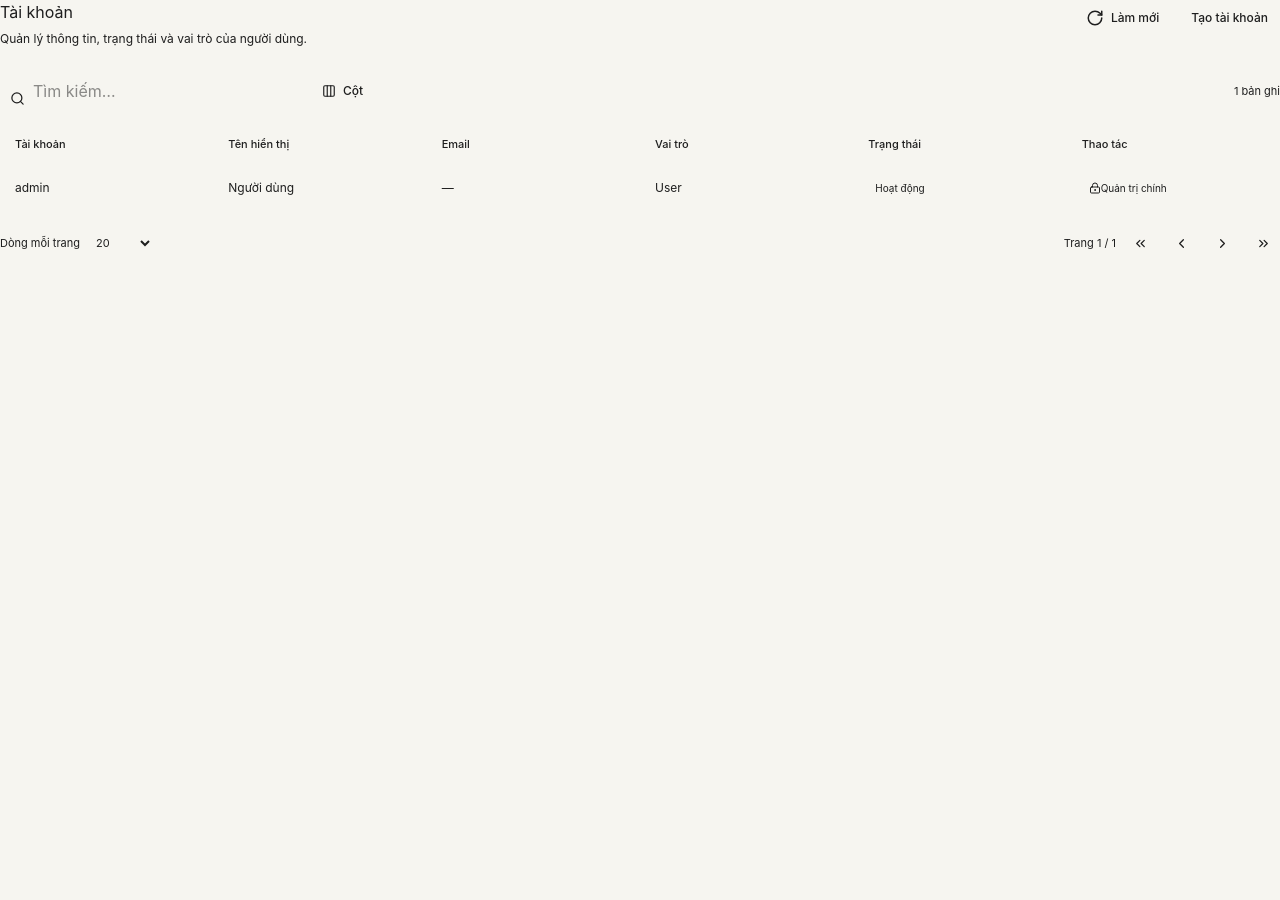
Test: server account page lists API data and creates a multi-role account through the API
This screenshot has width=1280, height=900.
Expected: the link "admin" is shown, [15, 180, 50, 195]
Click the button "Tạo tài khoản": coordinates (1230, 18) [1179, 0, 1279, 36]
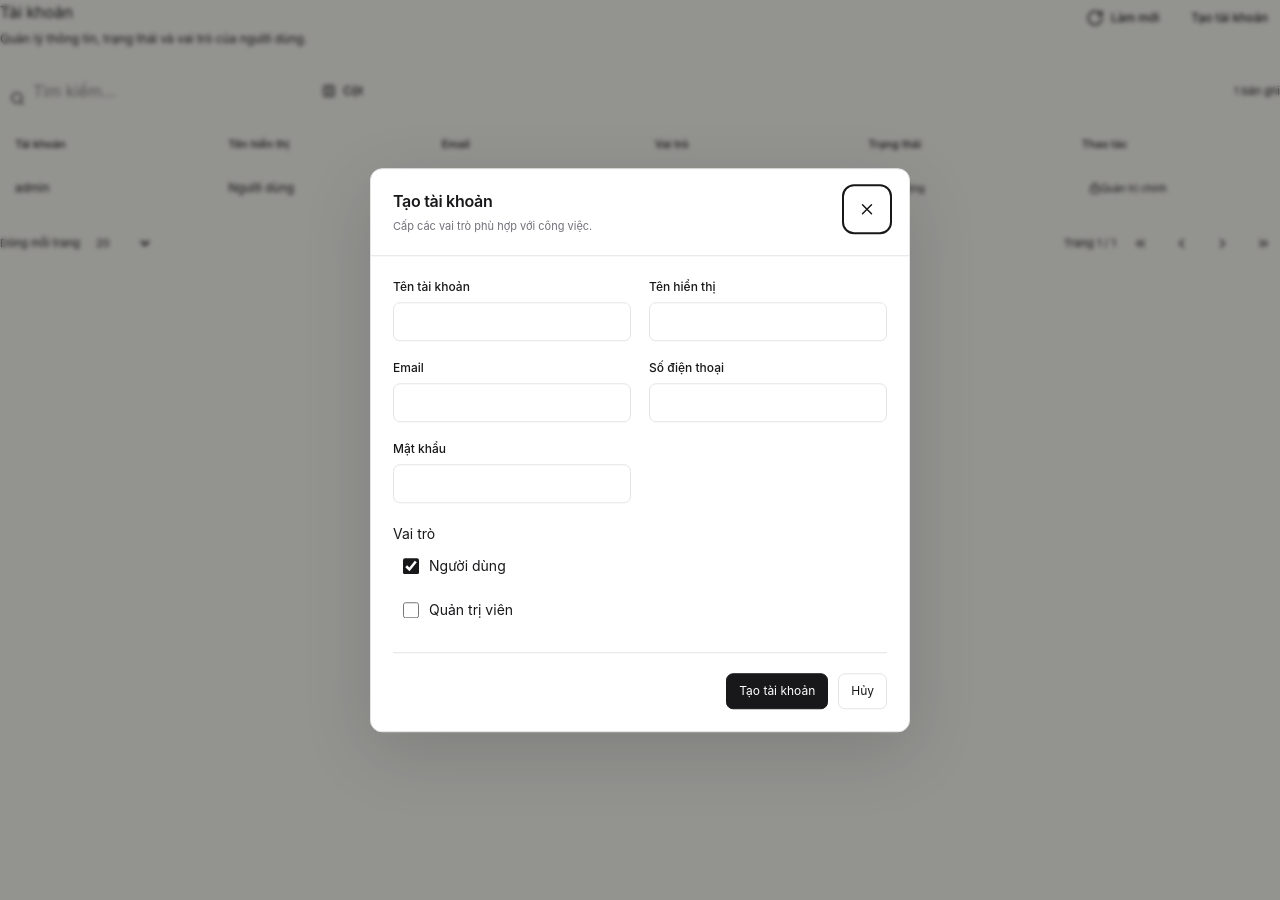
In the field labelled "Tên tài khoản": coordinates (512, 321) [393, 302, 631, 341], type "new-server"
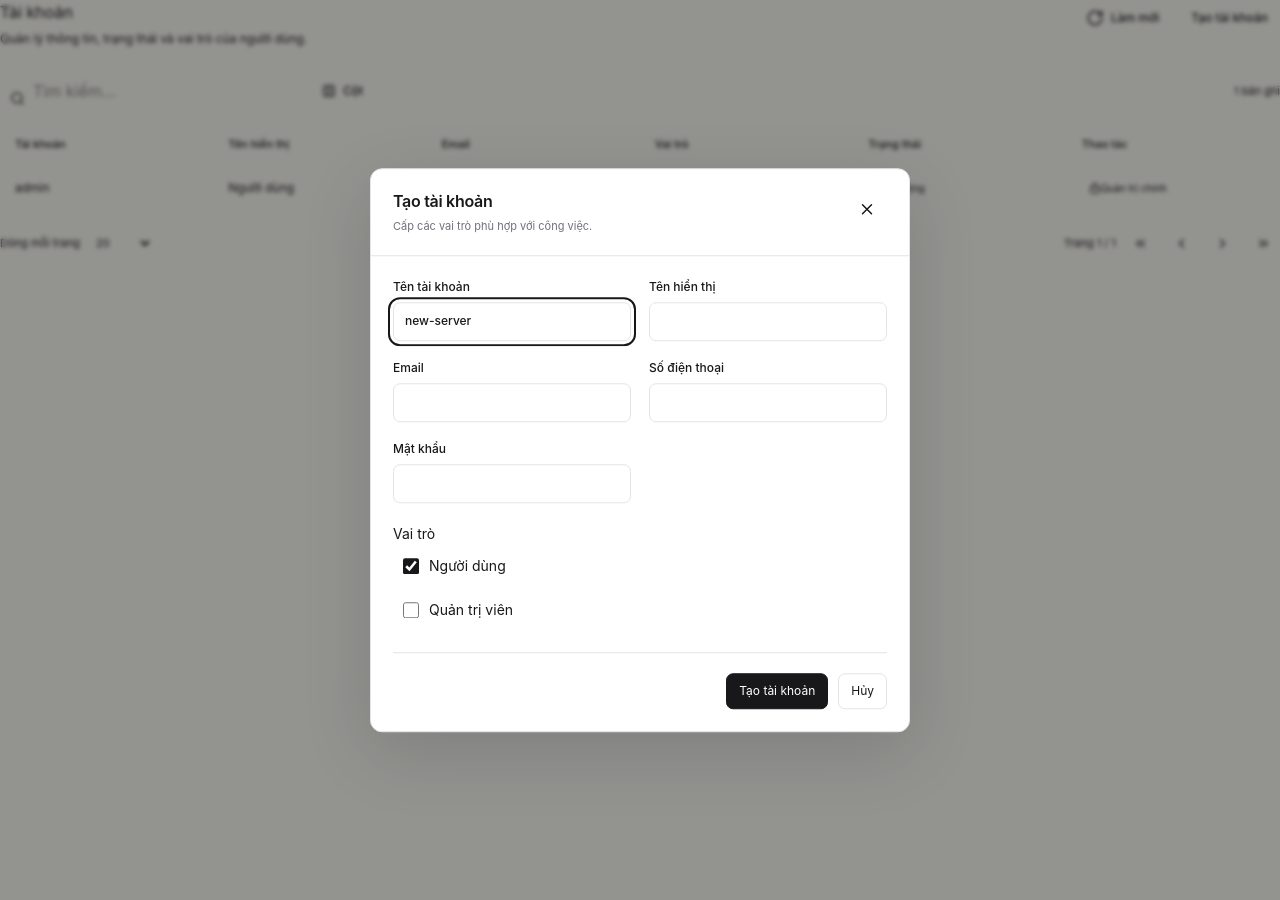
In the field labelled "Tên hiển thị": coordinates (768, 321) [649, 302, 887, 341], type "Tài khoản máy chủ"
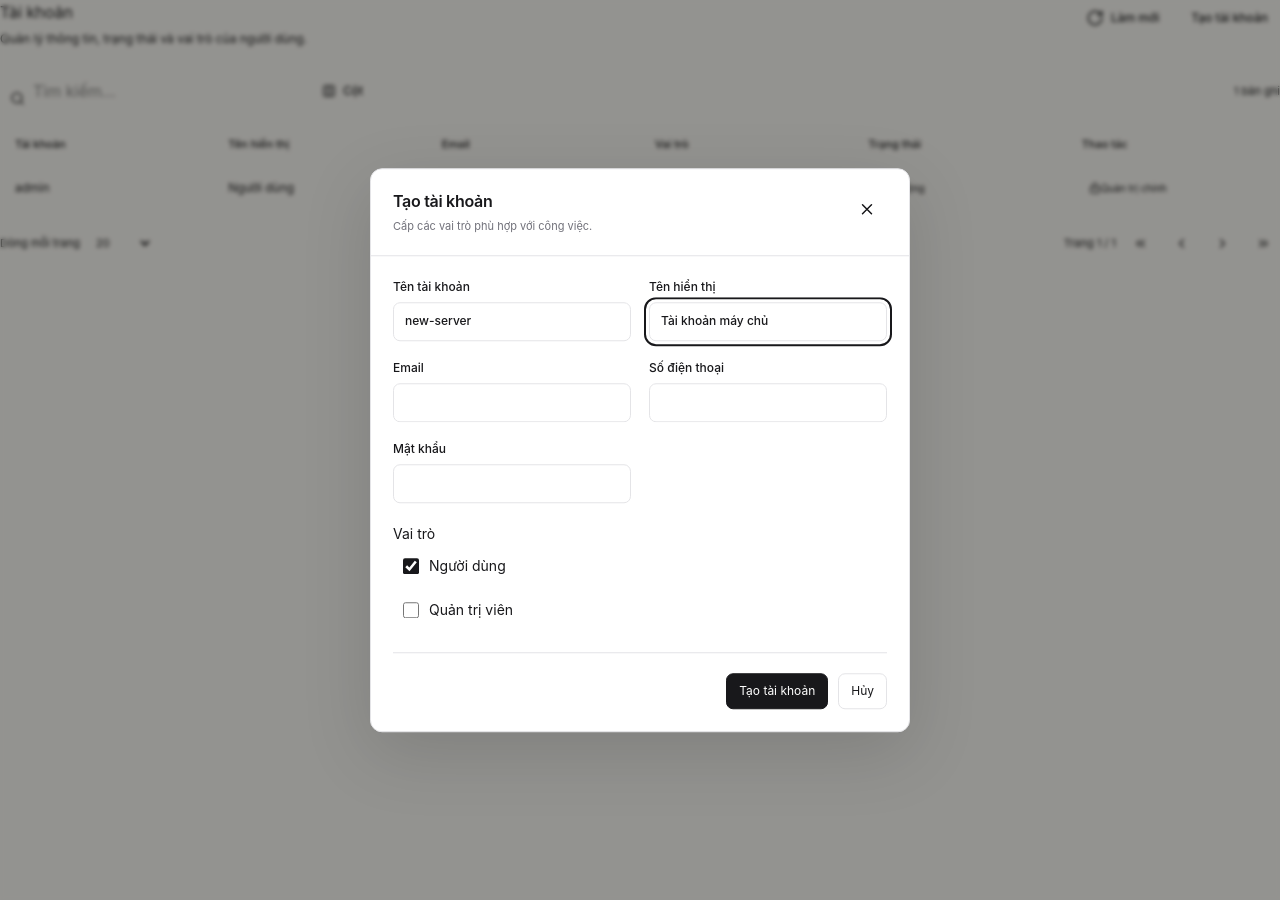
In the password field labelled "Mật khẩu": coordinates (512, 483) [393, 464, 631, 503], type "Only-test-Page!99"
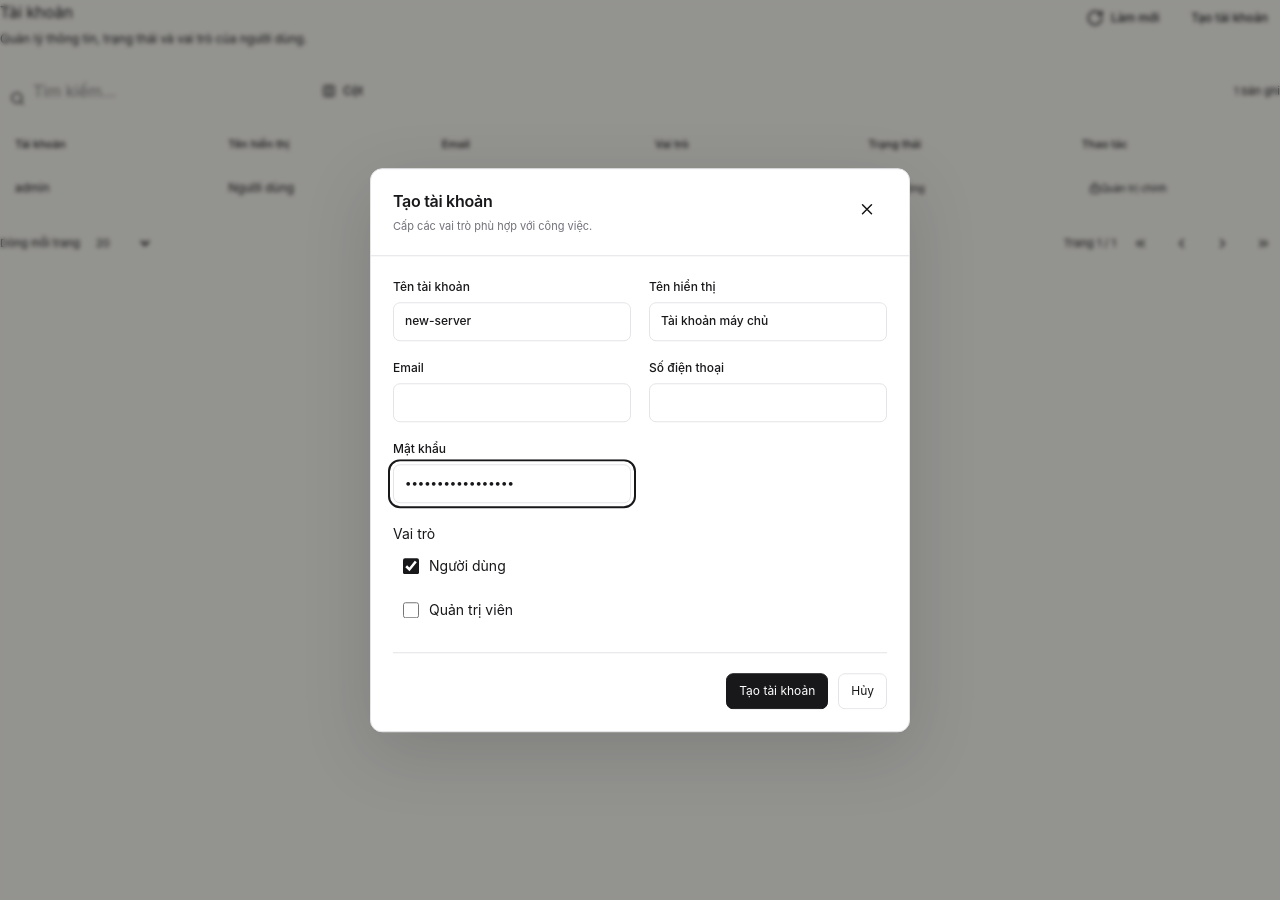
Click the checkbox labelled "Quản trị viên": coordinates (411, 610) [403, 602, 419, 618]
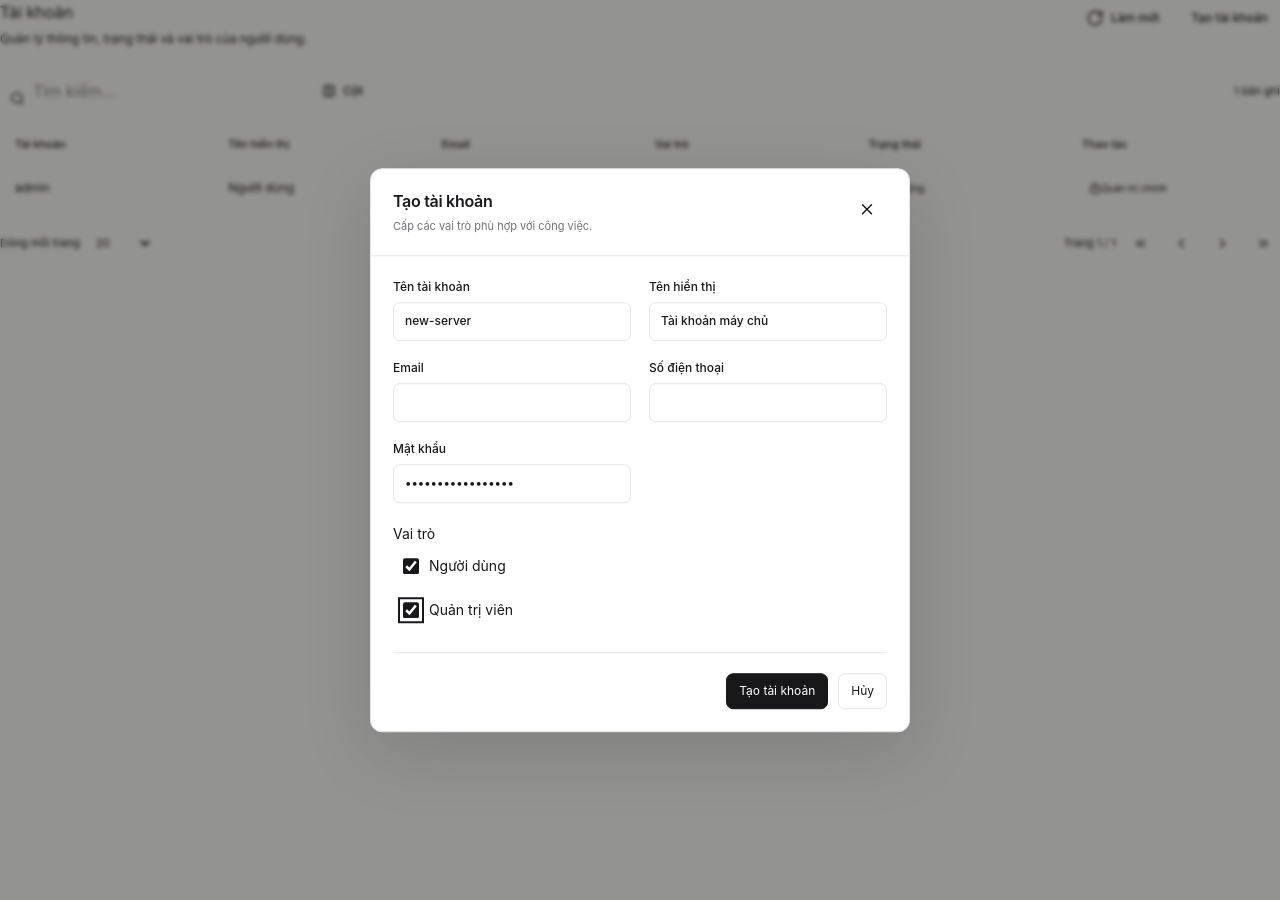
Click the button "Tạo tài khoản": coordinates (777, 691) [726, 673, 828, 709]
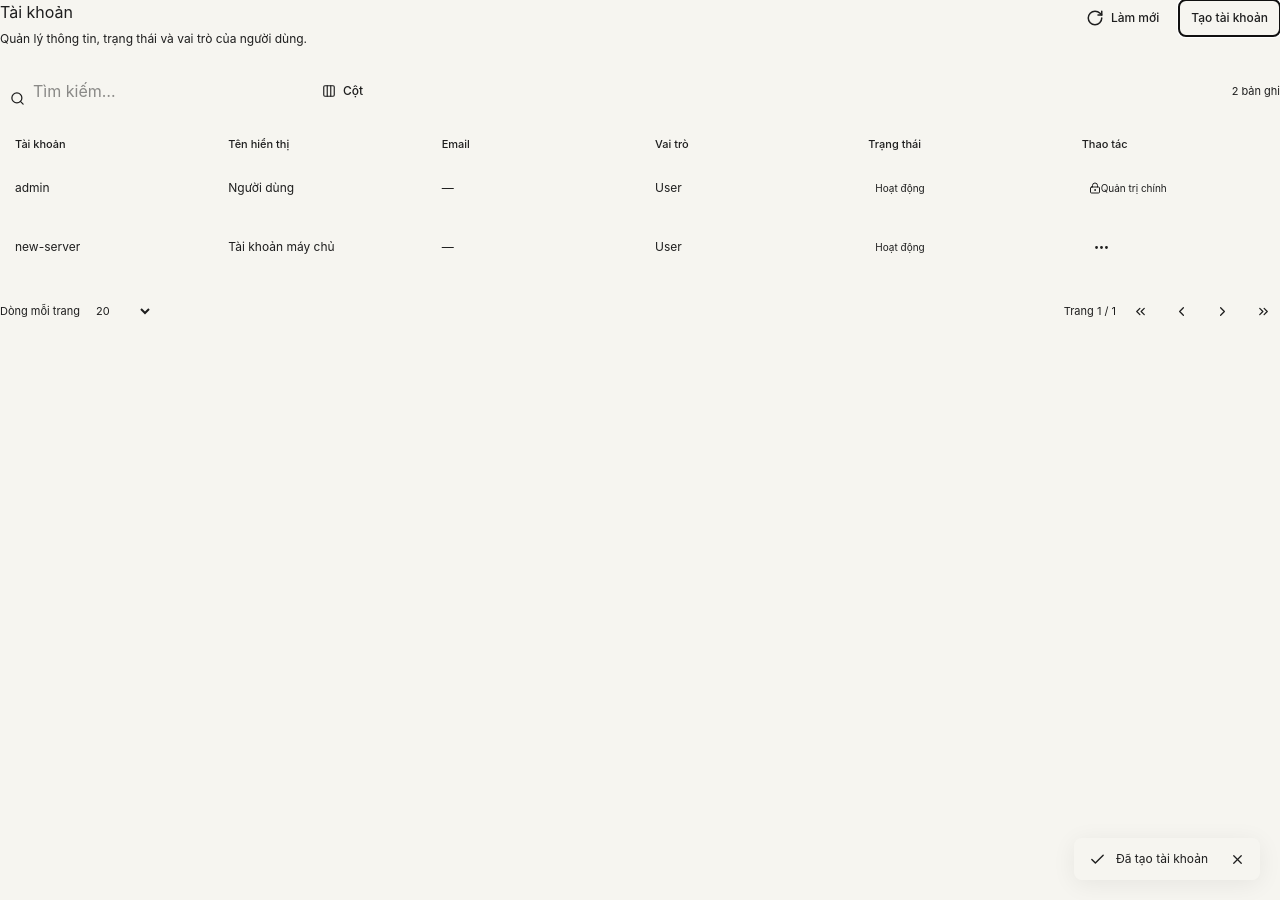
Now the link "new-server" is shown, box [15, 239, 80, 254]
